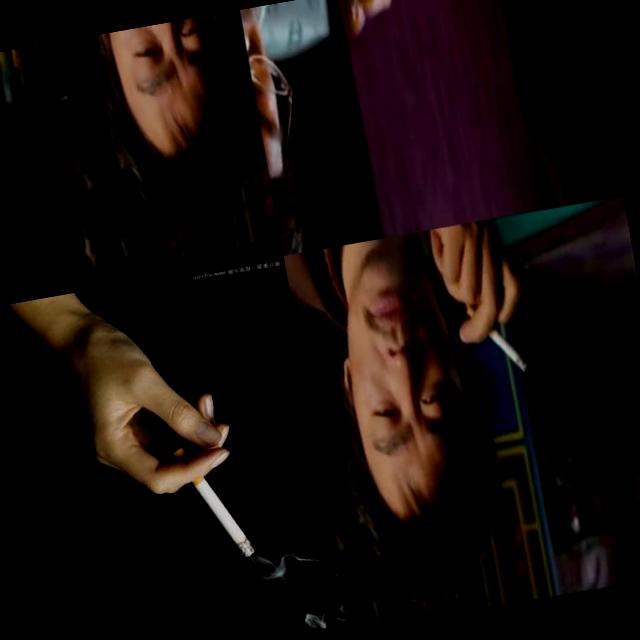smoke: (169, 434, 258, 569), (464, 296, 529, 382)
